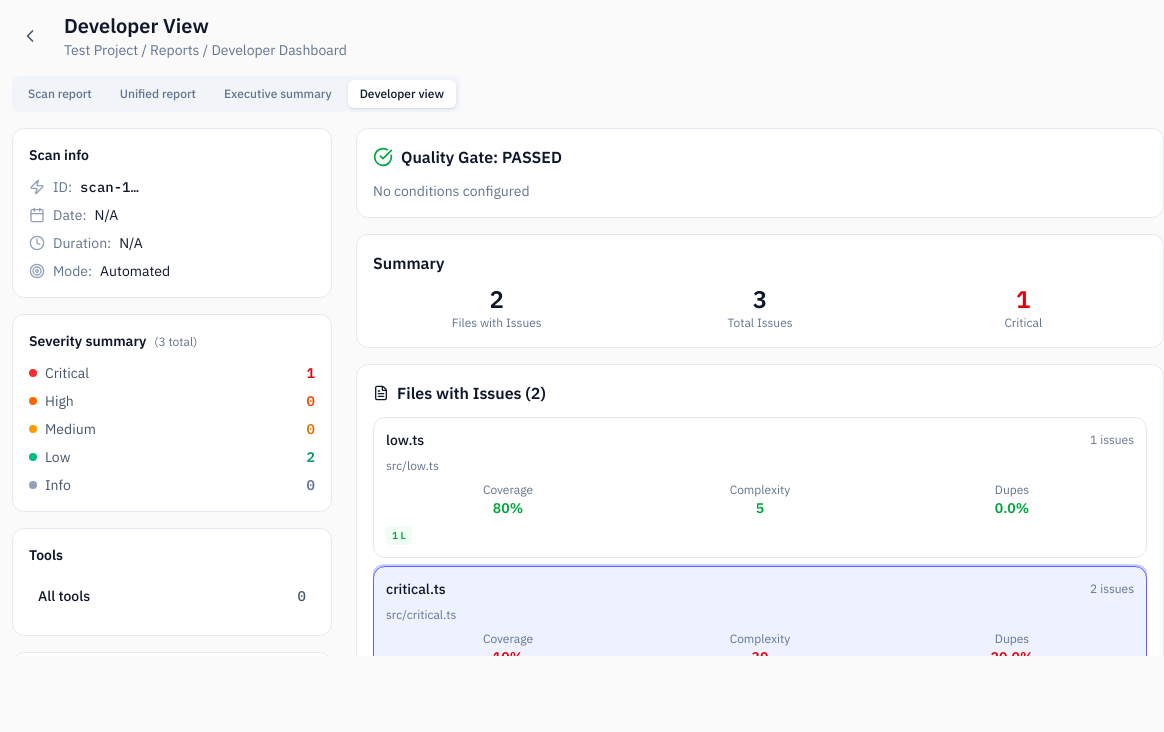
Test case: DeveloperReportPage › clicking a different file re-selects its own worst issue
Click the text "low.ts": x=405, y=440 left=386, top=430, right=424, bottom=450
(page scrolled)
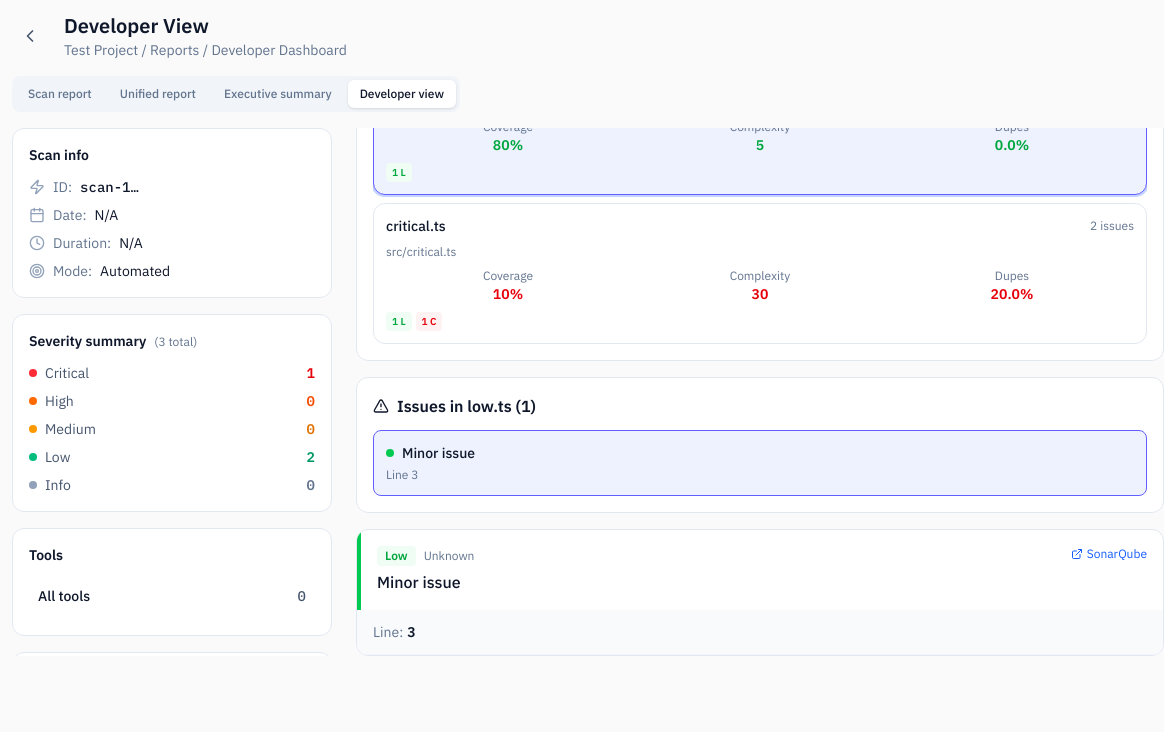
Now the heading "Issues in low.ts (1)" is shown, box left=373, top=396, right=536, bottom=416
